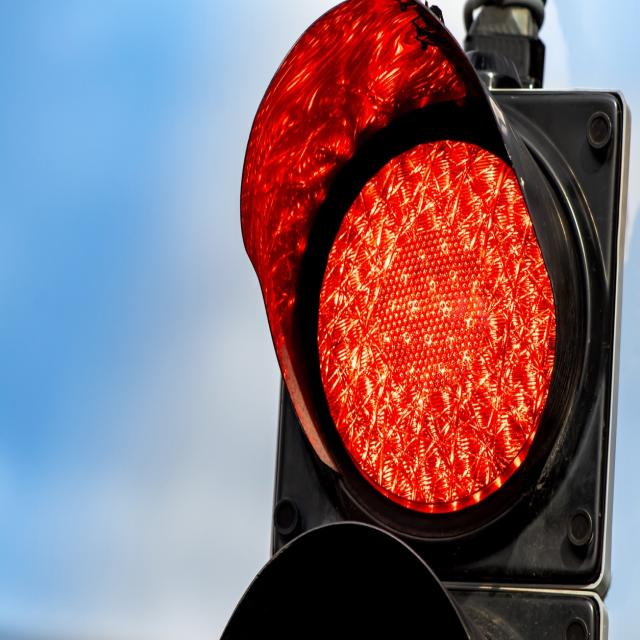red: (247, 66, 566, 525)
